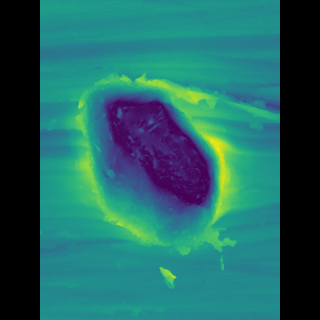Loch: (84, 61, 220, 251)
